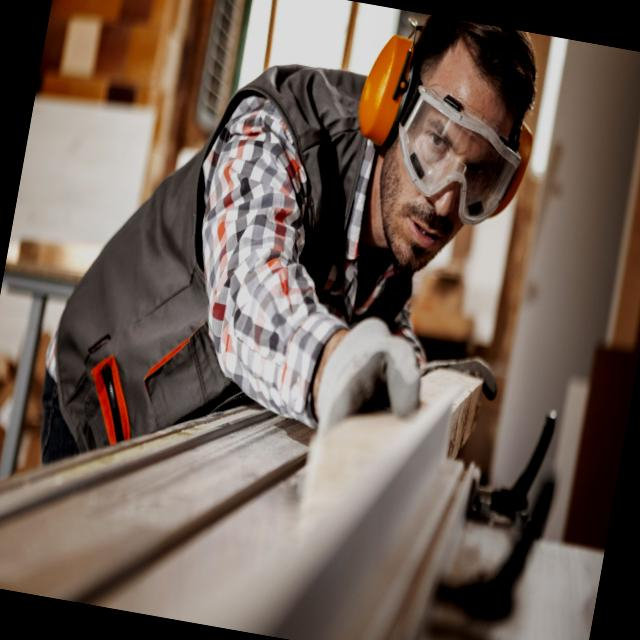goggles: (378, 102, 526, 225)
no-helmet: (398, 11, 546, 106)
no-vest: (45, 47, 390, 480)
